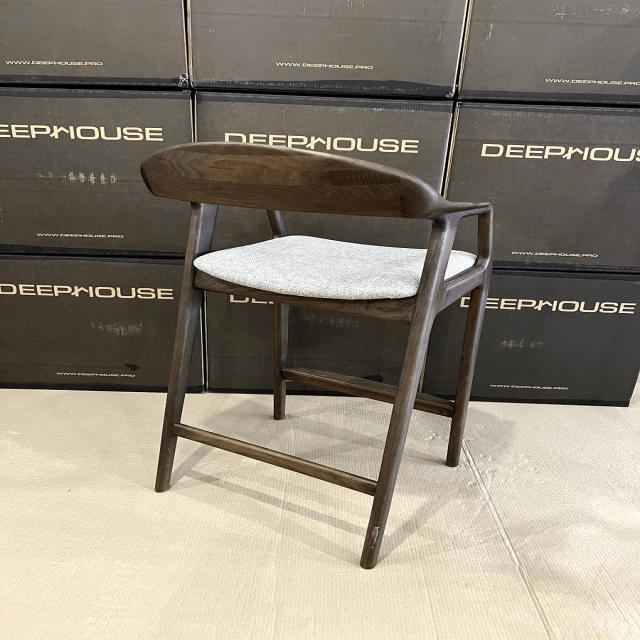chair: (144, 132, 506, 570), (158, 121, 522, 322)
